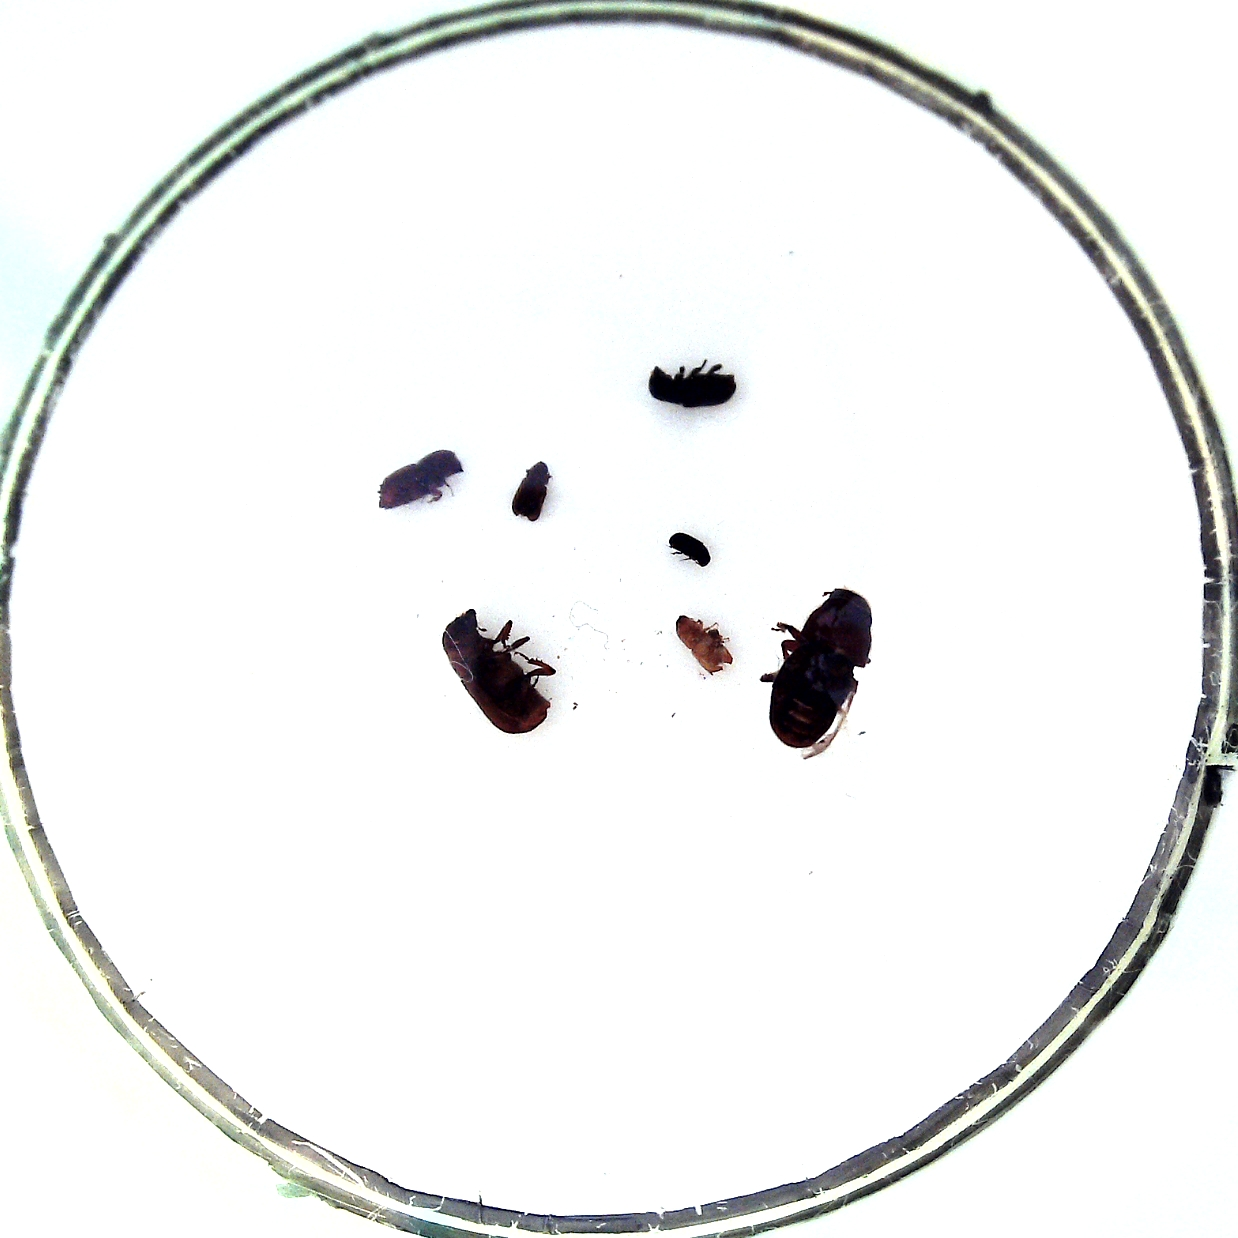Leconte: (769, 590, 873, 748), (441, 609, 551, 735)
acuminatus: (669, 532, 711, 567)
armandi: (648, 365, 737, 407)
coleoptera: (676, 614, 734, 675), (512, 460, 550, 522)
linnaeus: (378, 450, 463, 509)
